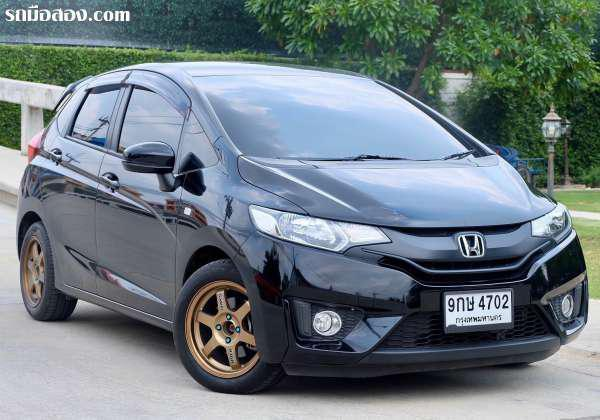Hatchback: (6, 49, 600, 400)
